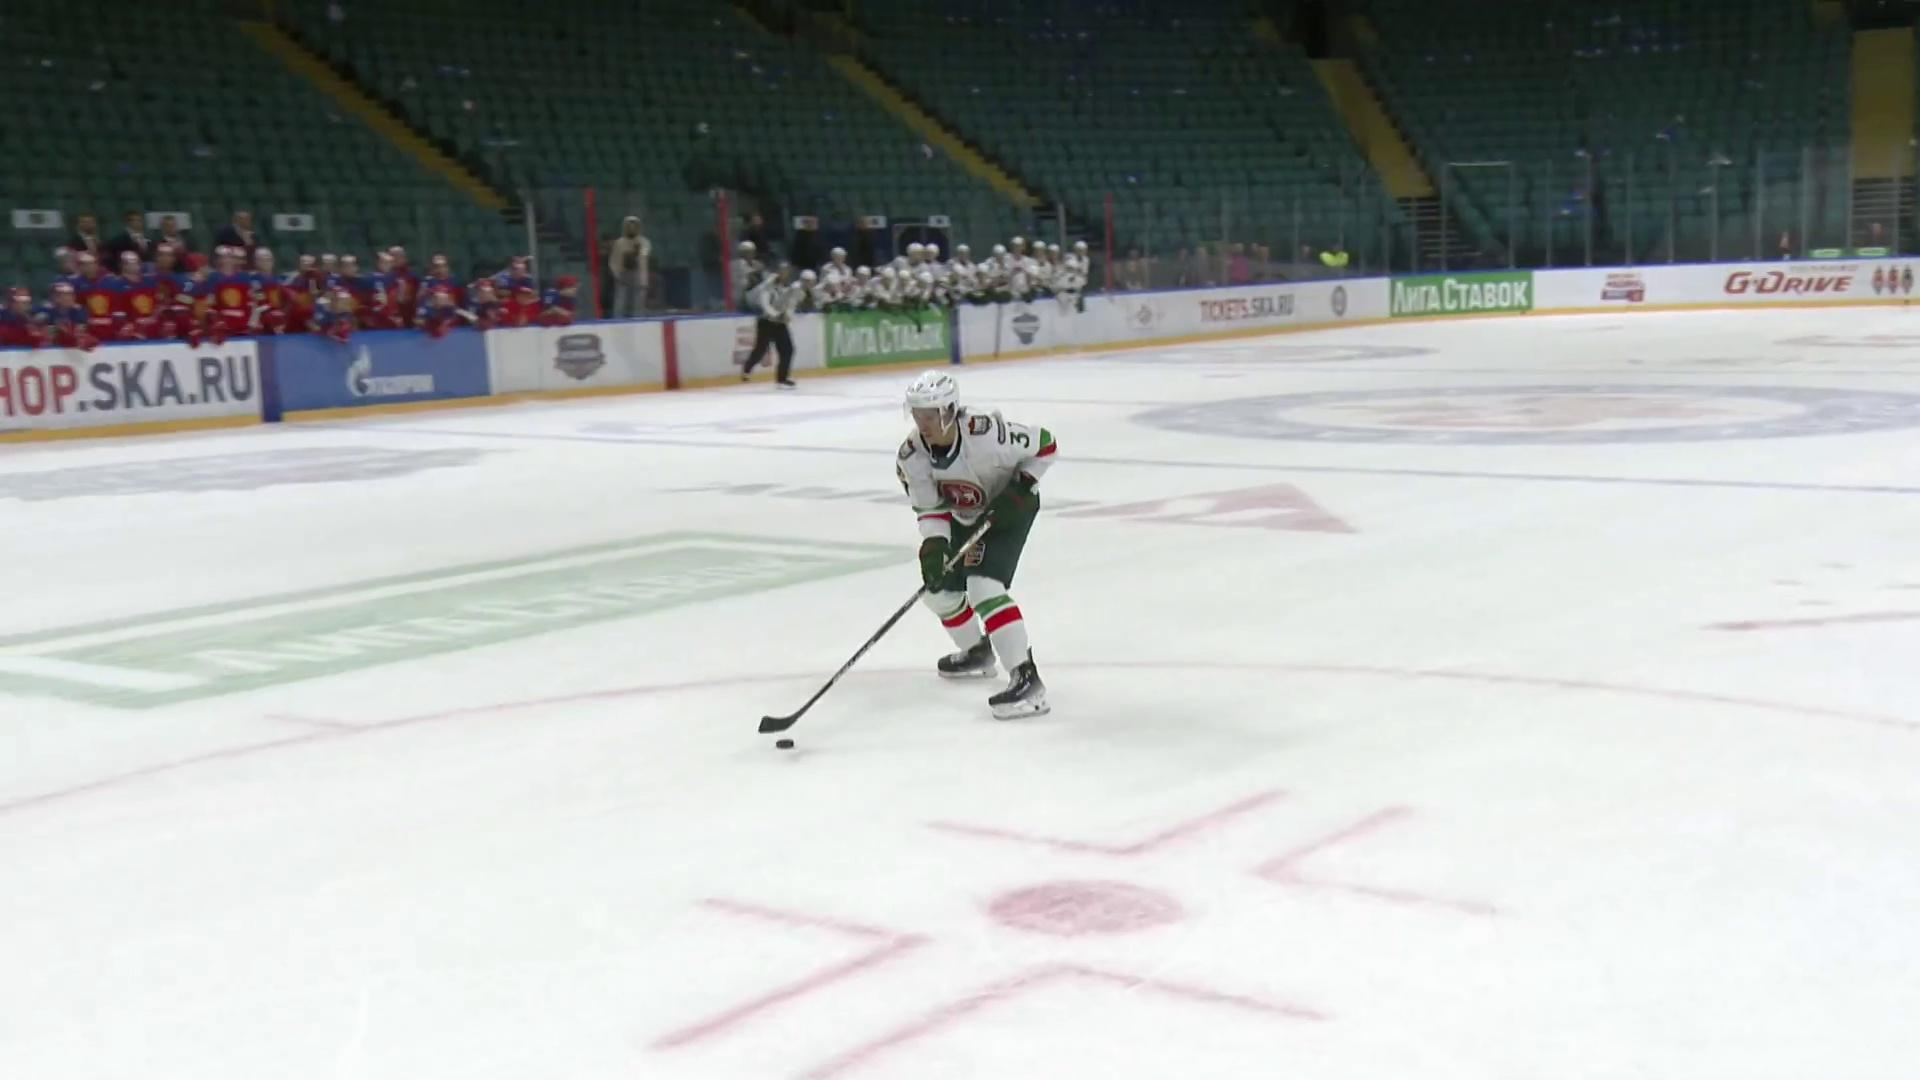ball: (775, 738, 796, 750)
